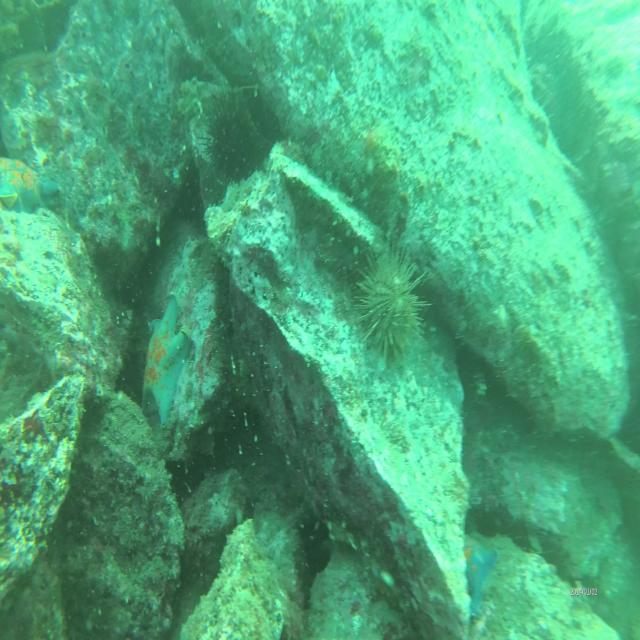echinus: (354, 238, 432, 377), (199, 105, 265, 202)
starfish: (143, 298, 200, 434), (0, 155, 62, 212), (462, 530, 497, 626)
